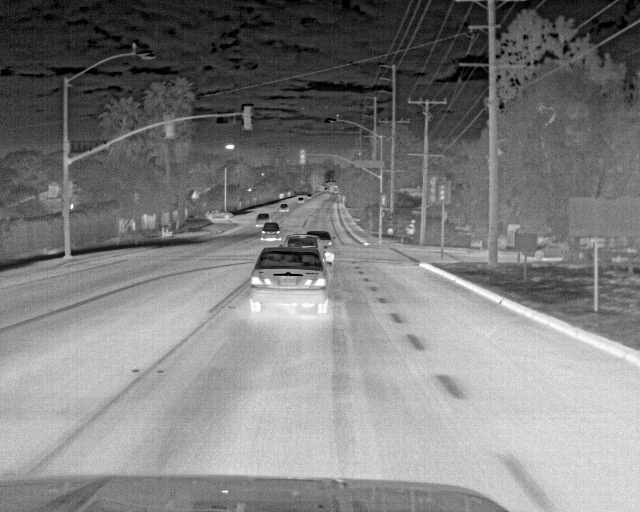vehicle: (251, 248, 333, 315), (261, 221, 284, 238)
